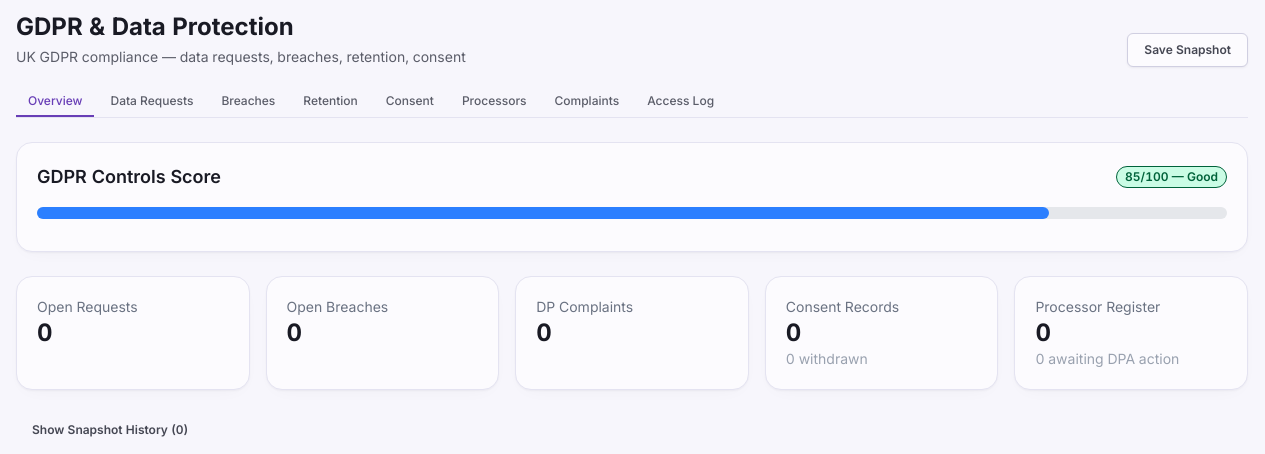
Test: GdprDashboard › shows the processor register tab and empty state
This screenshot has width=1265, height=454.
What coordinates should you click on to do the following:
click the tab "Processors"
I would click on:
 (494, 102)
Its box is [450, 87, 538, 117].
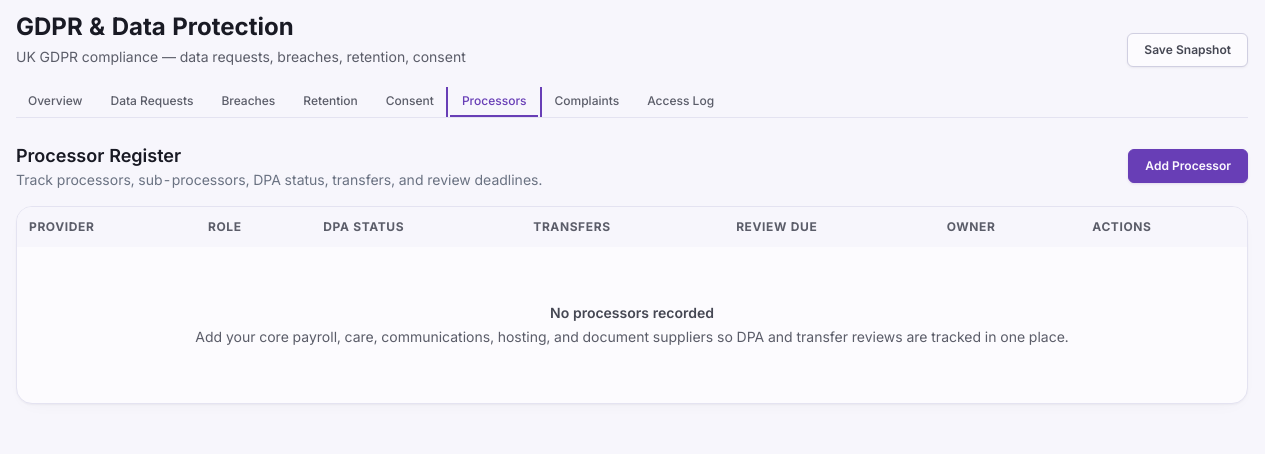
Check: the text "No processors recorded" is shown, box [550, 304, 714, 321]
Check: the button "Add Processor" is shown, box [1128, 149, 1248, 183]
